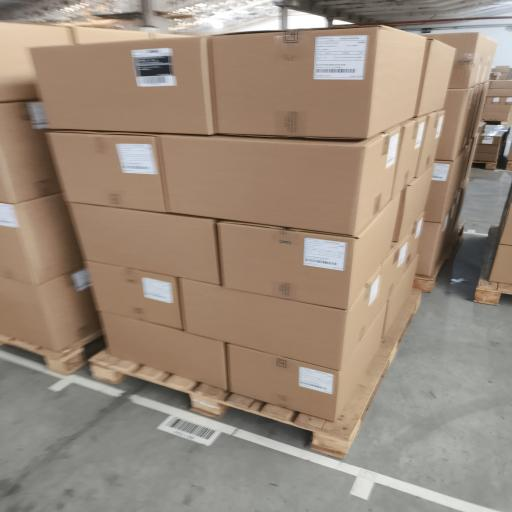pallet: (90, 290, 420, 458), (0, 331, 102, 375), (414, 227, 463, 292), (474, 226, 511, 305), (474, 161, 497, 170), (506, 160, 511, 170)
